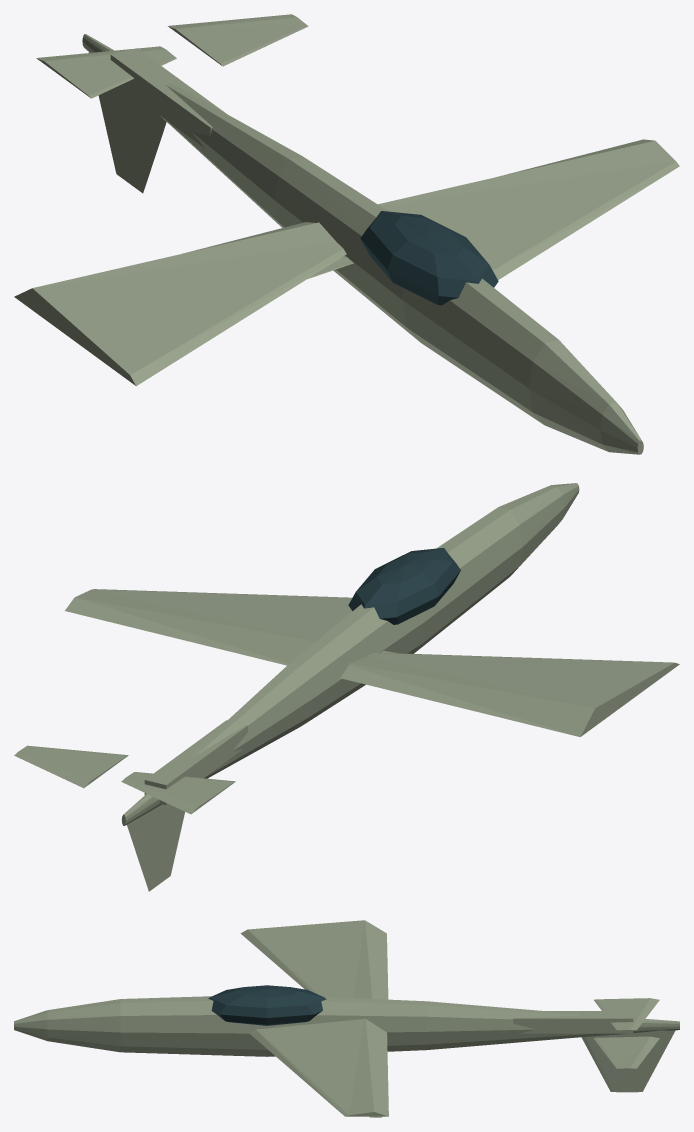
The picture shows the model from 3 angles, top to bottom: view 1: azimuth 30°, elevation 25°; view 2: azimuth 150°, elevation 25°; view 3: azimuth 270°, elevation 25°; orthographic projection. The views are drawn at different scales.
Parts seen in each view (by area): view 1: Fuselage, Wing_L, Wing_R, Cockpit, Rudder, TailBoom, Elevator_R, Elevator_L; view 2: Fuselage, Wing_L, Wing_R, Cockpit, Rudder, Elevator_R, TailBoom, Elevator_L; view 3: Fuselage, Wing_R, Wing_L, Cockpit, Rudder, TailBoom, Elevator_R, Elevator_L.
Part boxes in pixels (x1,y1,x2,y2): Fuselage: [82, 34, 643, 454]; Wing_L: [14, 222, 346, 386]; Wing_R: [378, 139, 679, 279]; Cockpit: [360, 211, 498, 305]; Rudder: [89, 52, 166, 193]; TailBoom: [110, 48, 226, 147]; Elevator_R: [168, 14, 308, 66]; Elevator_L: [36, 46, 176, 98]; Fuselage: [121, 483, 579, 825]; Wing_L: [340, 652, 679, 736]; Wing_R: [65, 589, 352, 665]; Cockpit: [348, 548, 460, 624]; Rudder: [127, 804, 184, 891]; Elevator_R: [14, 745, 128, 788]; TailBoom: [144, 720, 247, 805]; Elevator_L: [121, 772, 235, 814]; Fuselage: [14, 996, 679, 1056]; Wing_R: [249, 1018, 388, 1116]; Wing_L: [240, 920, 388, 999]; Cockpit: [208, 985, 326, 1025]; Rudder: [581, 1030, 675, 1092]; TailBoom: [513, 1011, 633, 1033]; Elevator_R: [593, 1036, 659, 1068]; Elevator_L: [594, 998, 659, 1030].
Size of the model in its own units: 10.27 by 2.67 by 15.67.
